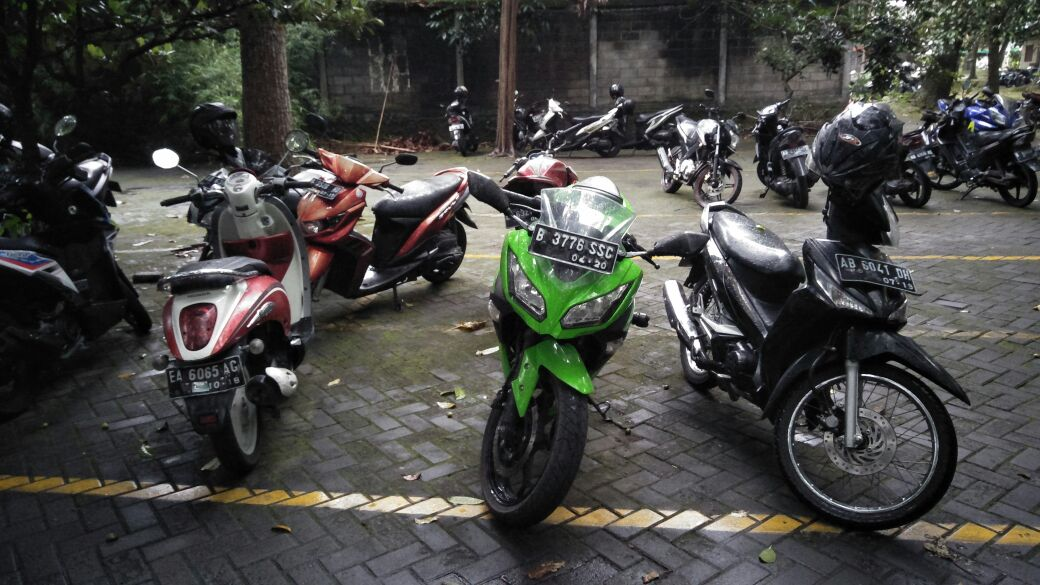plate: (529, 226, 619, 274), (833, 251, 920, 294), (166, 354, 246, 399)
